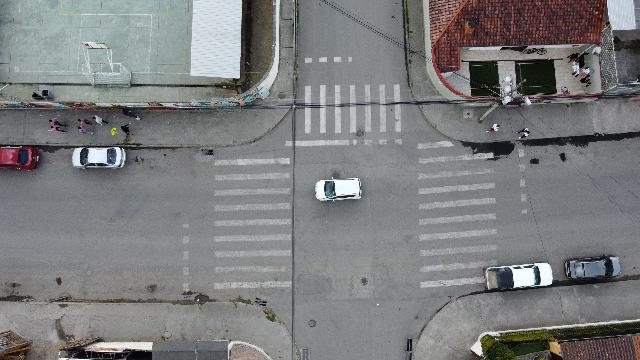Vehiculo: (483, 262, 552, 292), (565, 255, 621, 282), (72, 147, 126, 169), (314, 178, 362, 202), (0, 146, 38, 170)
